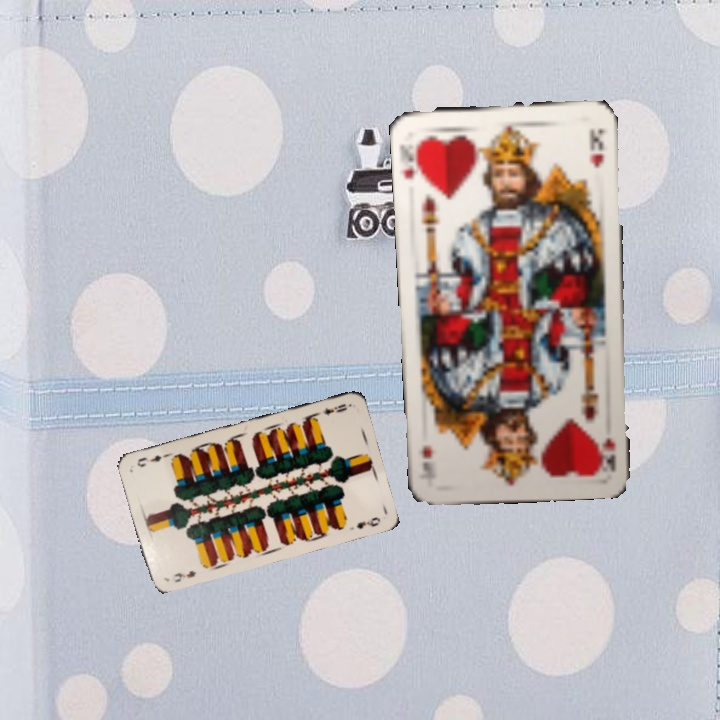E9: (318, 400, 349, 418), (170, 566, 198, 585)
HK: (399, 136, 426, 182), (599, 434, 619, 472)
